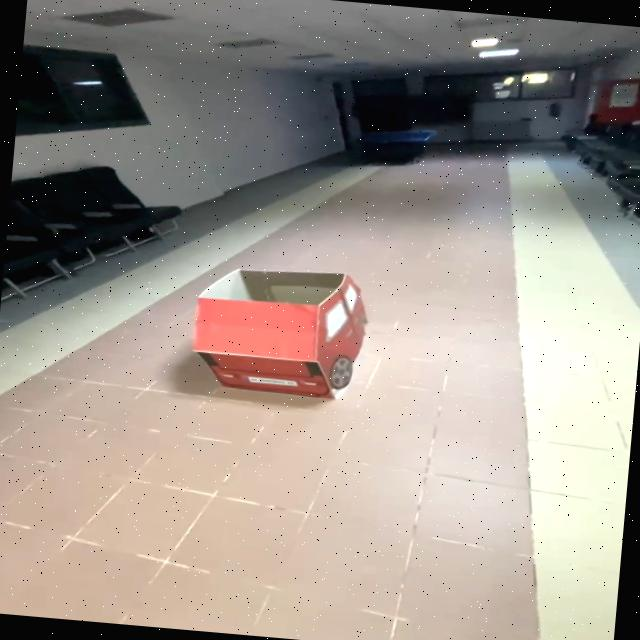red_car: (161, 245, 395, 426)
